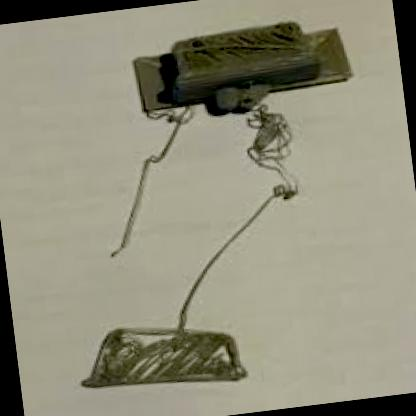fail: (93, 104, 326, 330)
